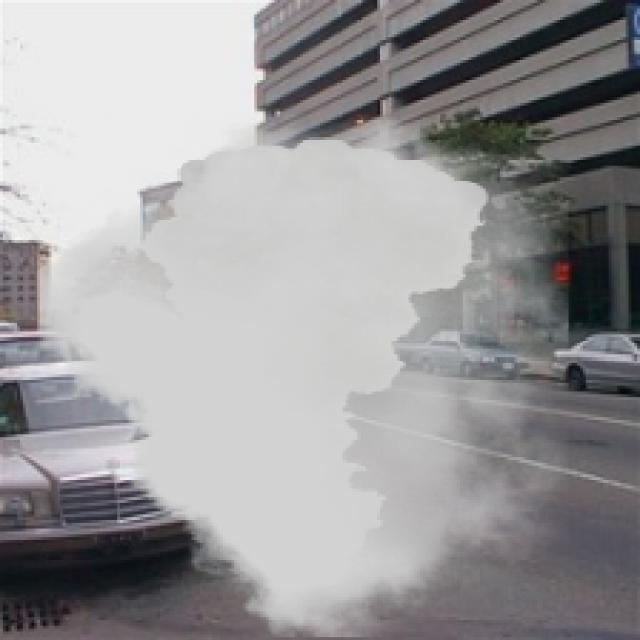smoke: (37, 114, 569, 637)
